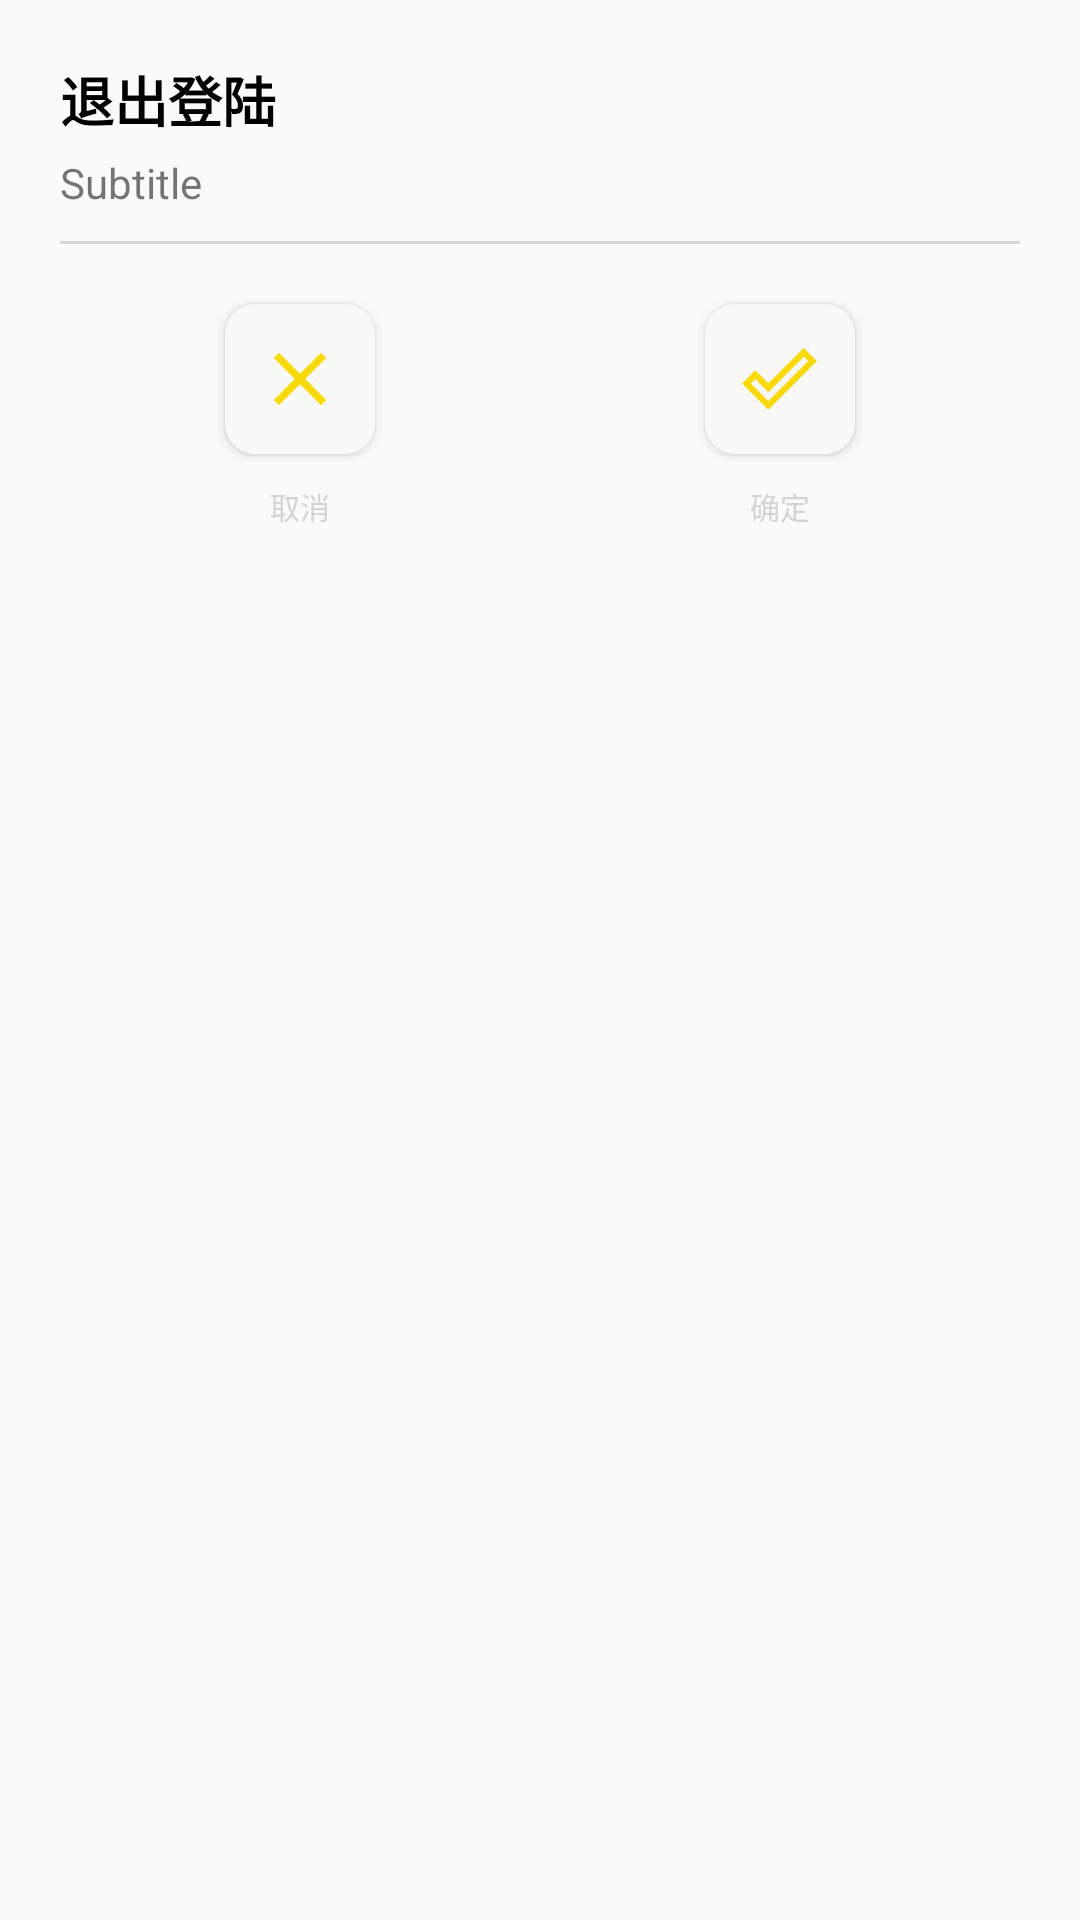

Icon bounding boxes for this 1080*1920 phone screenshot, format (x1, y1, x2, y2):
close: (274, 353, 326, 405)
done: (742, 348, 817, 410)
